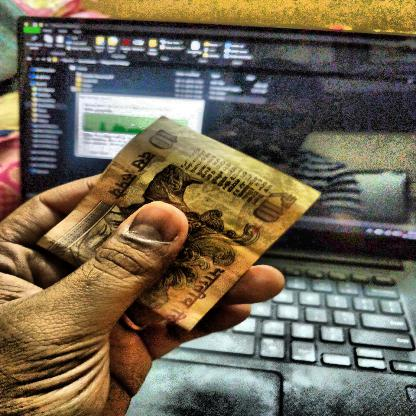Rs10: (246, 183, 304, 229)
